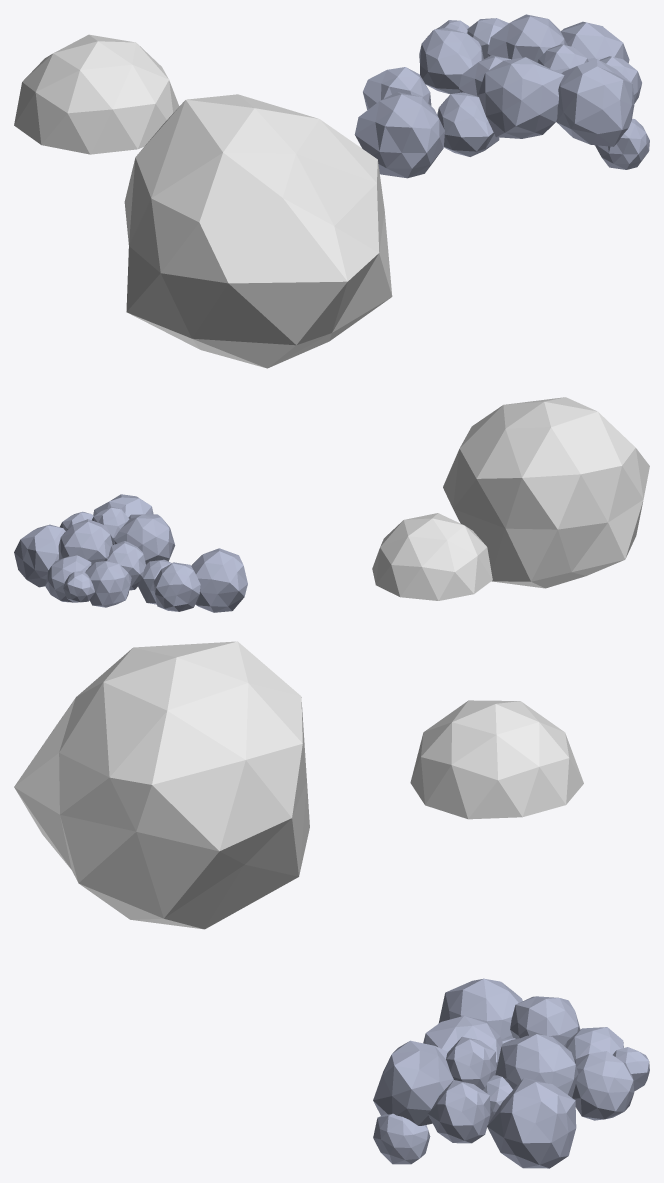
The model's file is RockPack.fbx.
3 renders of one model, top to bottom at view 1: azimuth 30°, elevation 25°; view 2: azimuth 150°, elevation 25°; view 3: azimuth 270°, elevation 25°, orthographic. The views are drawn at different scales.
Parts seen in each view (by area): view 1: Rock2, Rocks, Rock1; view 2: Rock2, Rocks, Rock1; view 3: Rock2, Rocks, Rock1.
Part boxes in pixels (<box>): Rock2: <box>124,94,392,368</box>; Rocks: <box>354,14,649,178</box>; Rock1: <box>14,34,179,154</box>; Rock2: <box>443,397,649,588</box>; Rocks: <box>14,494,247,612</box>; Rock1: <box>372,513,492,600</box>; Rock2: <box>14,641,309,929</box>; Rocks: <box>373,978,649,1168</box>; Rock1: <box>410,700,583,819</box>.
Bounding box in the file's own units: 1660 × 614 × 1338.
